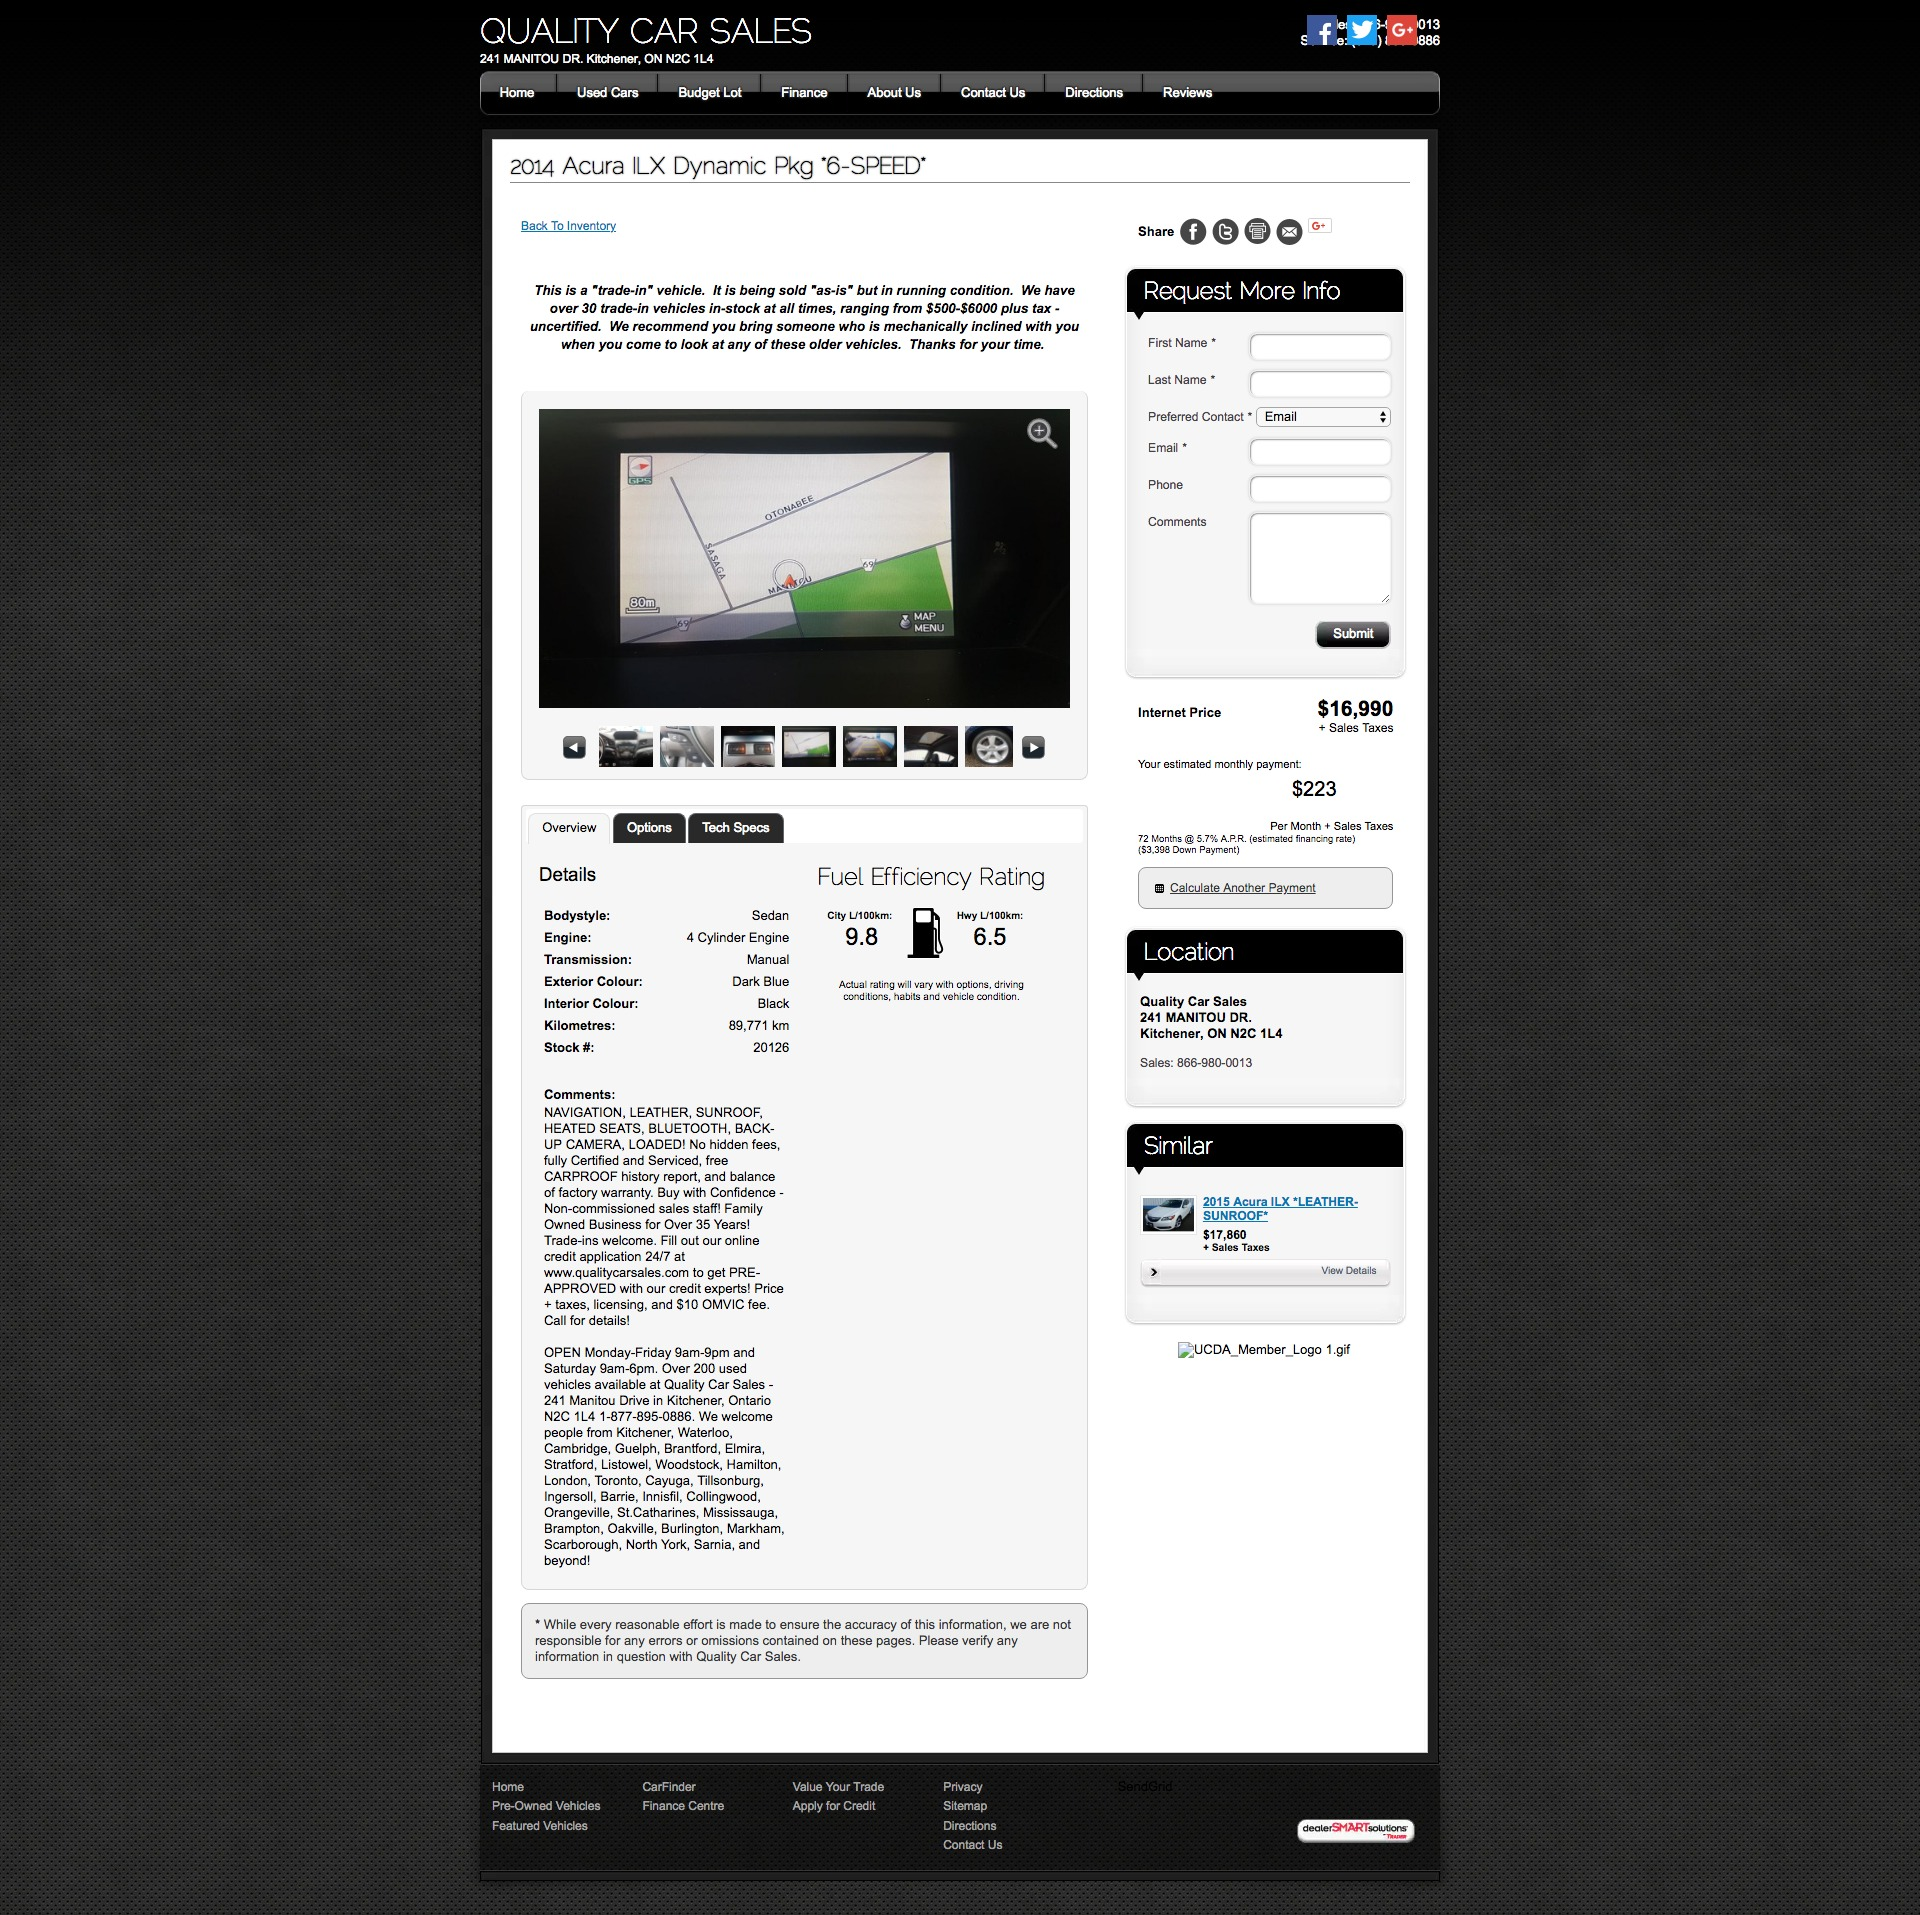car: (1029, 744, 1040, 752)
